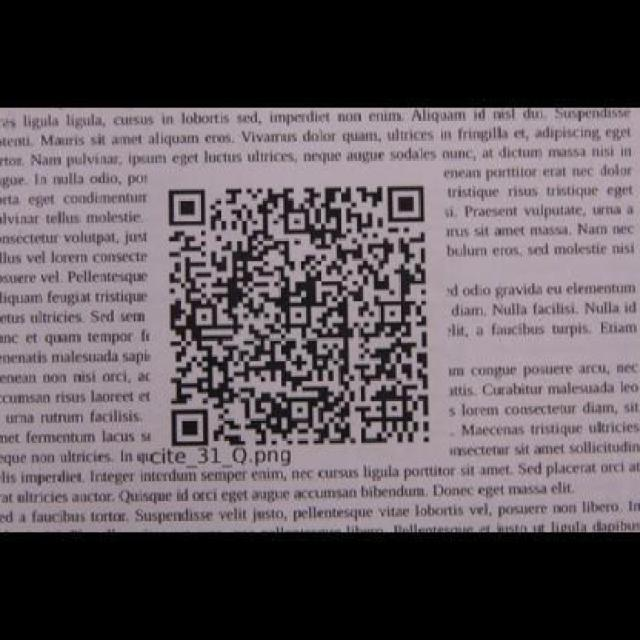QRCode: (163, 177, 438, 451)
